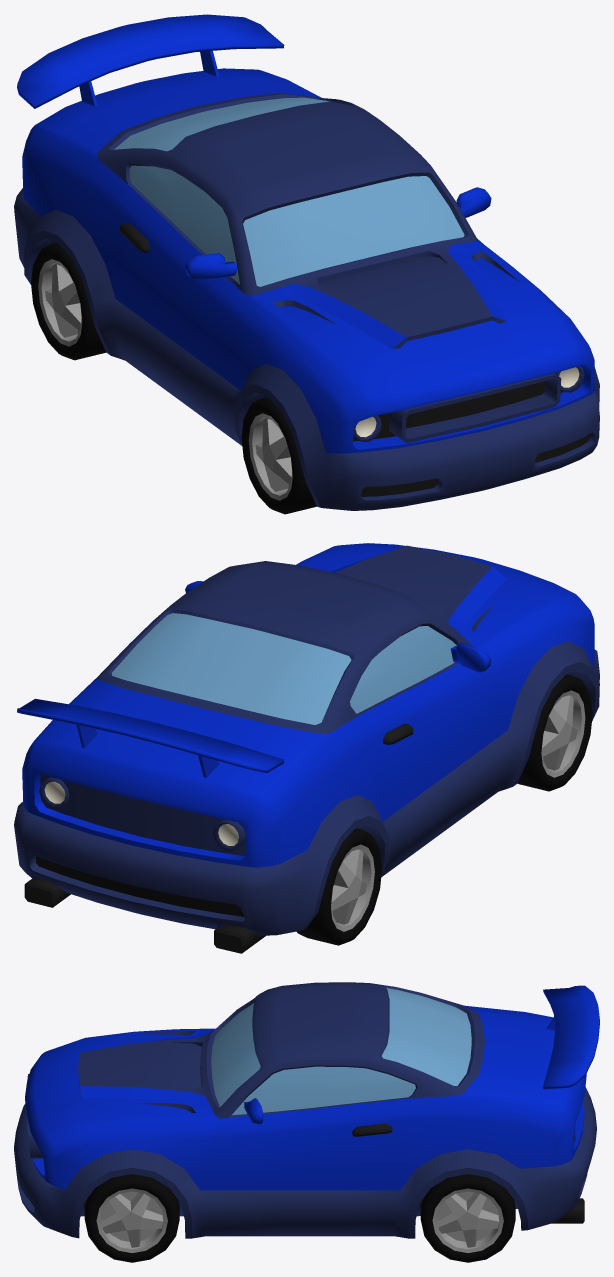
File: Car_A.fbx
3 renders of one model, top to bottom at view 1: azimuth 30°, elevation 25°; view 2: azimuth 150°, elevation 25°; view 3: azimuth 270°, elevation 25°, orthographic. The views are drawn at different scales.
Visible parts, largest first — view 1: Car_A, Car_A_Wheel_F_R, Car_A_Wheel_R_R; view 2: Car_A, Car_A_Wheel_R_R, Car_A_Wheel_F_R; view 3: Car_A, Car_A_Wheel_F_L, Car_A_Wheel_R_L.
Part boxes in pixels (left/top/right/bottom): Car_A: left=14, top=14, right=599, bottom=510; Car_A_Wheel_F_R: left=241, top=397, right=316, bottom=514; Car_A_Wheel_R_R: left=31, top=243, right=105, bottom=360; Car_A: left=14, top=543, right=599, bottom=953; Car_A_Wheel_R_R: left=296, top=828, right=382, bottom=945; Car_A_Wheel_F_R: left=517, top=674, right=592, bottom=791; Car_A: left=14, top=982, right=599, bottom=1238; Car_A_Wheel_F_L: left=84, top=1174, right=179, bottom=1262; Car_A_Wheel_R_L: left=420, top=1174, right=515, bottom=1262.
Bounding box in the file's own units: 51.39 × 40.23 × 108.
